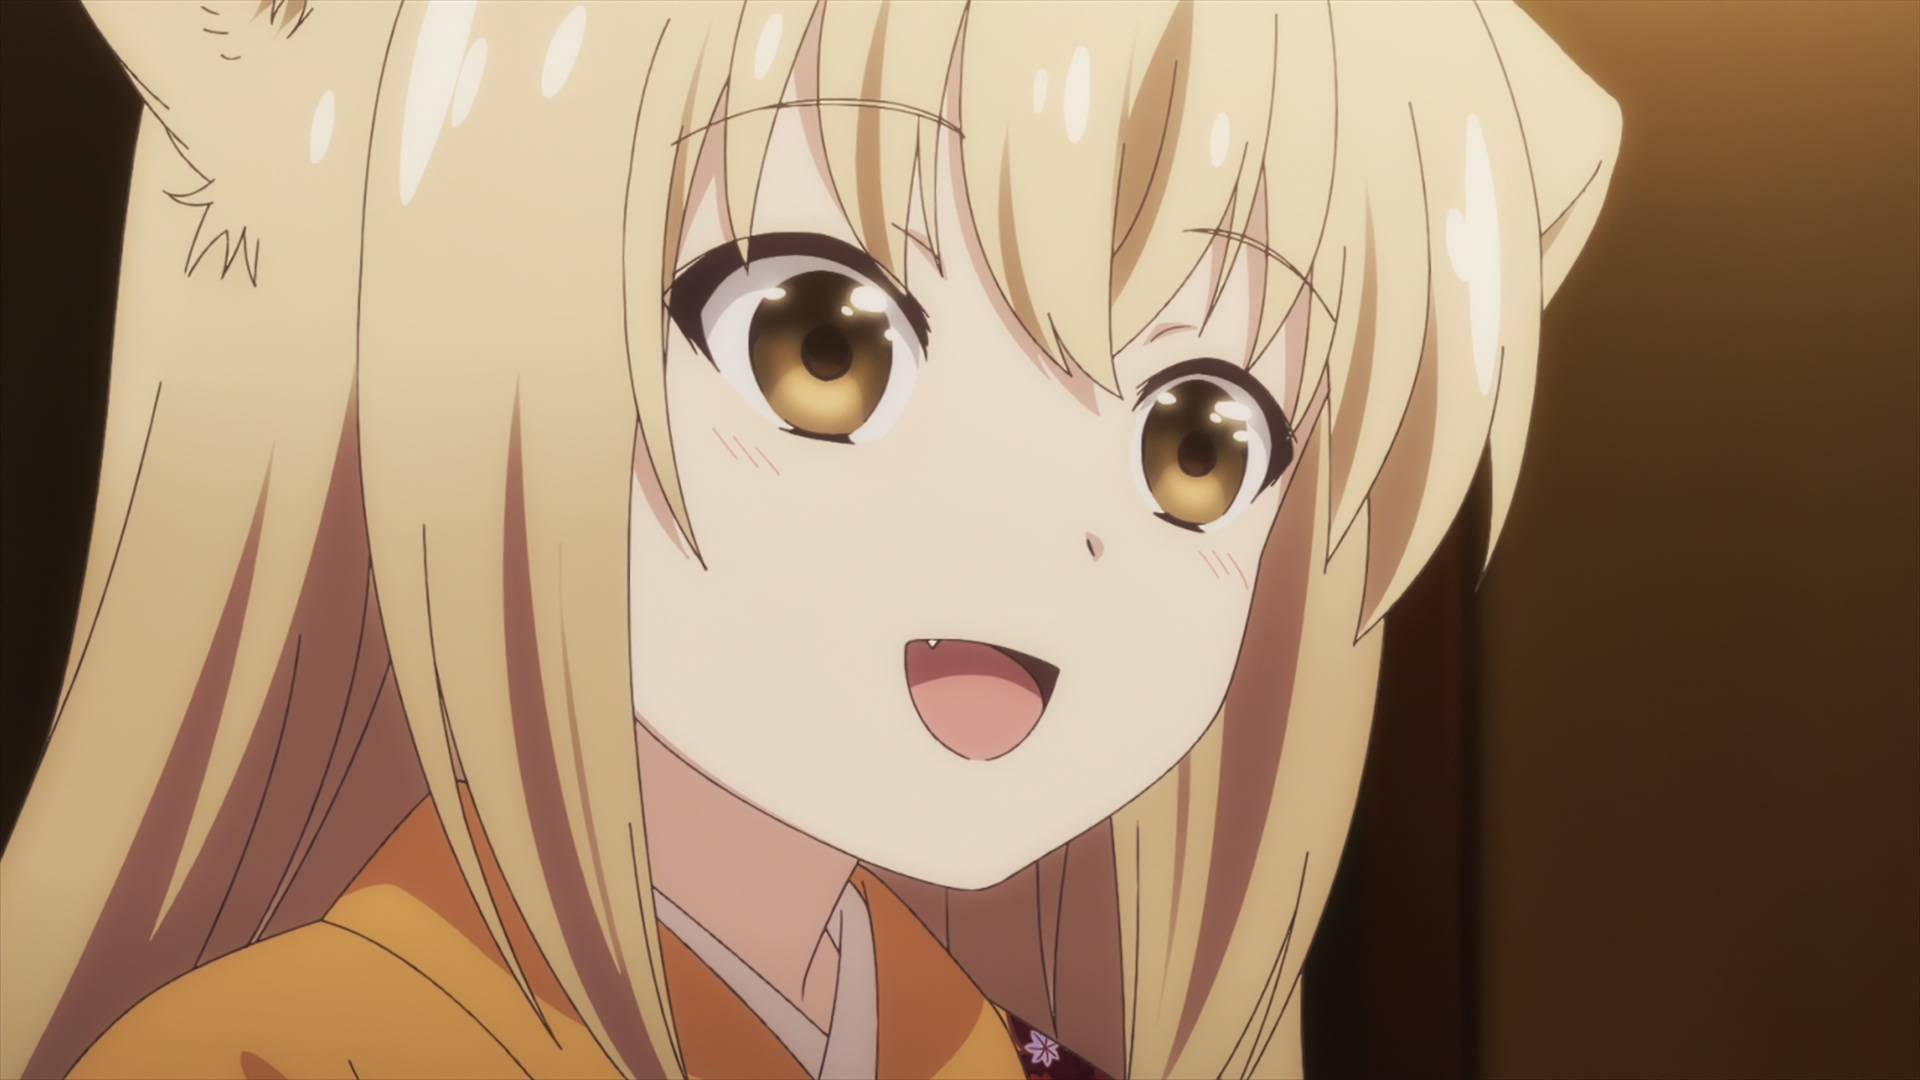柚: (1, 1, 1623, 1080)
